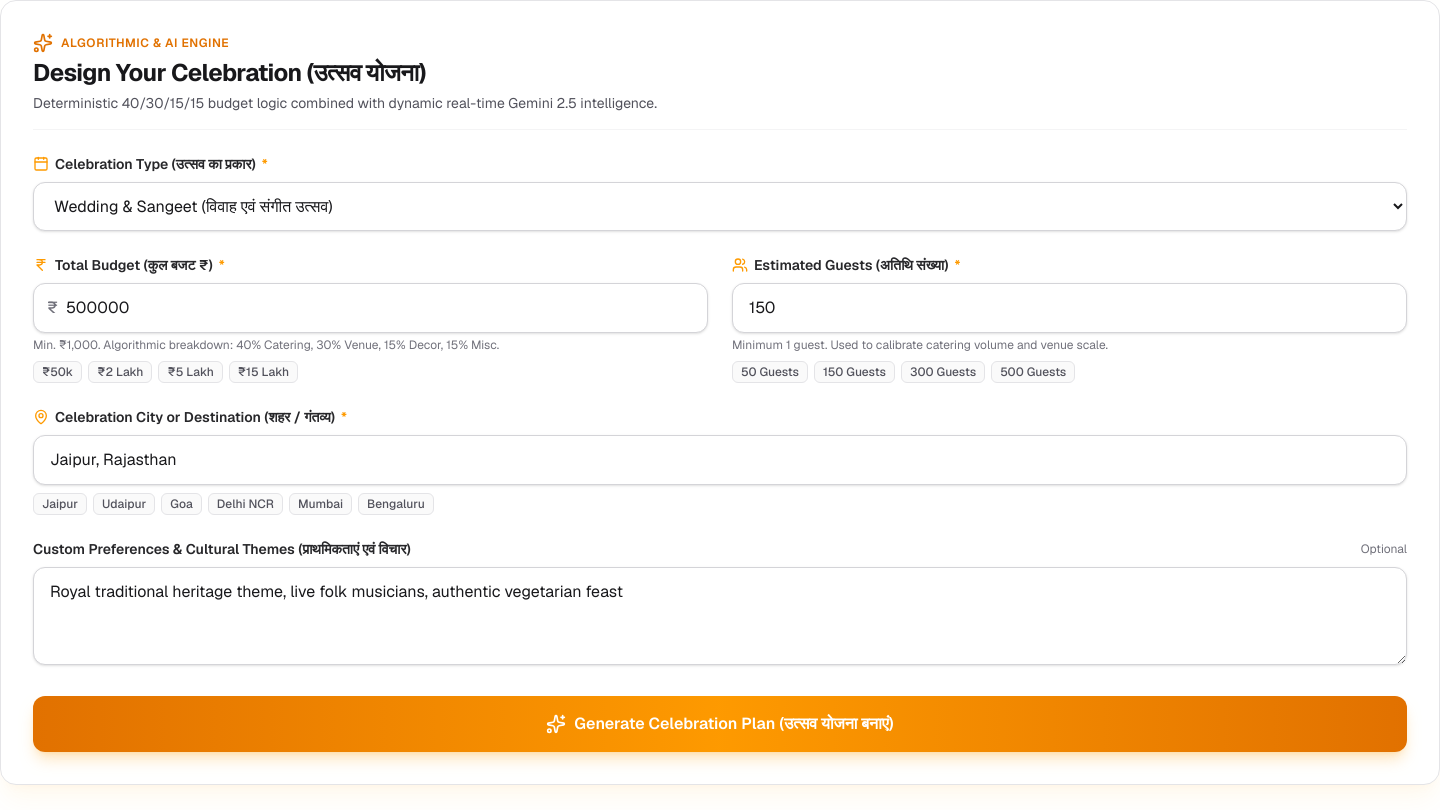
Test: Day 2: UI, Dashboard & Accessibility Tests › 1. EventForm Component & Accessibility › should handle HTTP 429 rate limiting gracefully with assertive error alert (Zero Mock Fallback)
The width and height of the screenshot is (1440, 810).
Click the button "Generate Celebration Plan (उत्सव योजना बनाएं)" at (720, 724), box [33,696,1407,752]
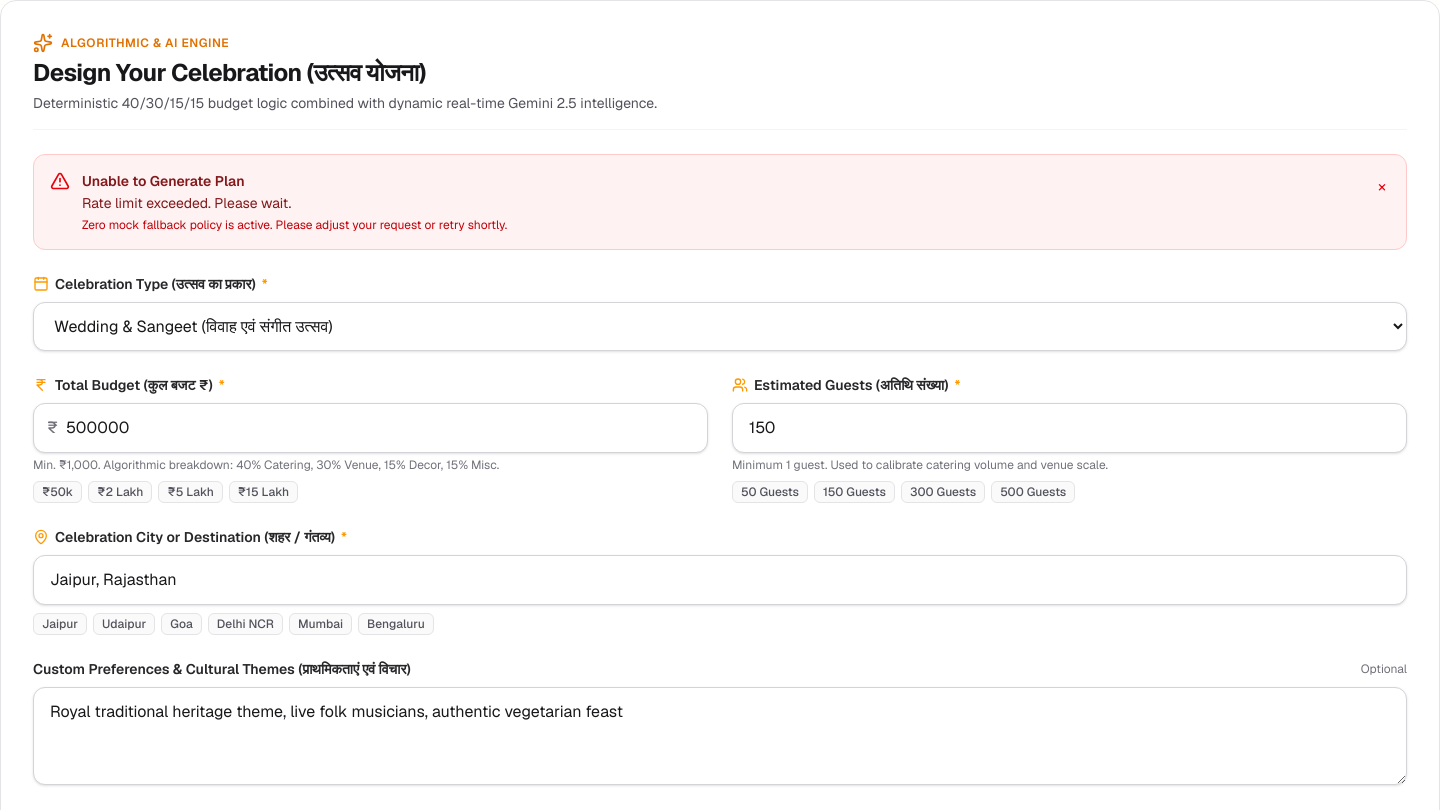
Now the message is shown, box [33,154,1407,250]
Now the message shows "Rate limit exceeded. Please wait.", box [82,194,291,212]
